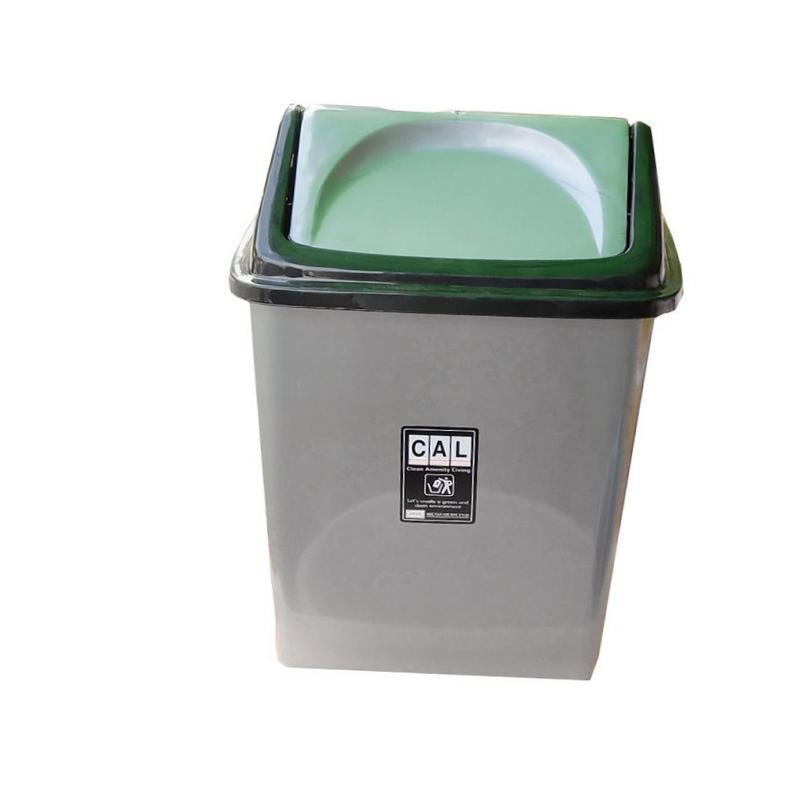Bote de Basura: (234, 86, 680, 710)
